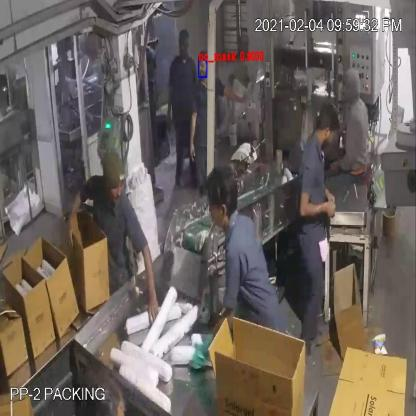no_glove: (134, 230, 162, 334), (62, 174, 88, 258), (297, 180, 339, 223), (186, 103, 204, 177), (219, 78, 253, 114), (164, 74, 174, 136)
